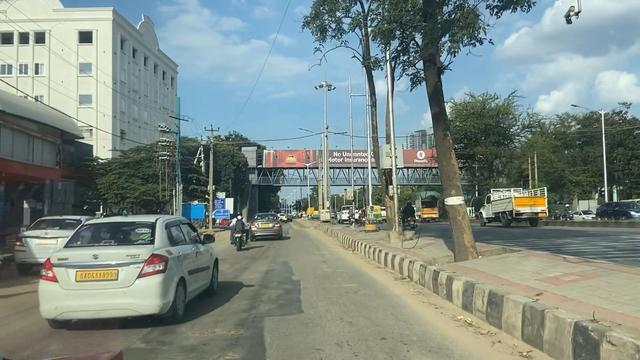LMV: (42, 215, 217, 322), (230, 209, 248, 252)
UnsurfacedRoad: (199, 300, 309, 353), (212, 252, 315, 278)
